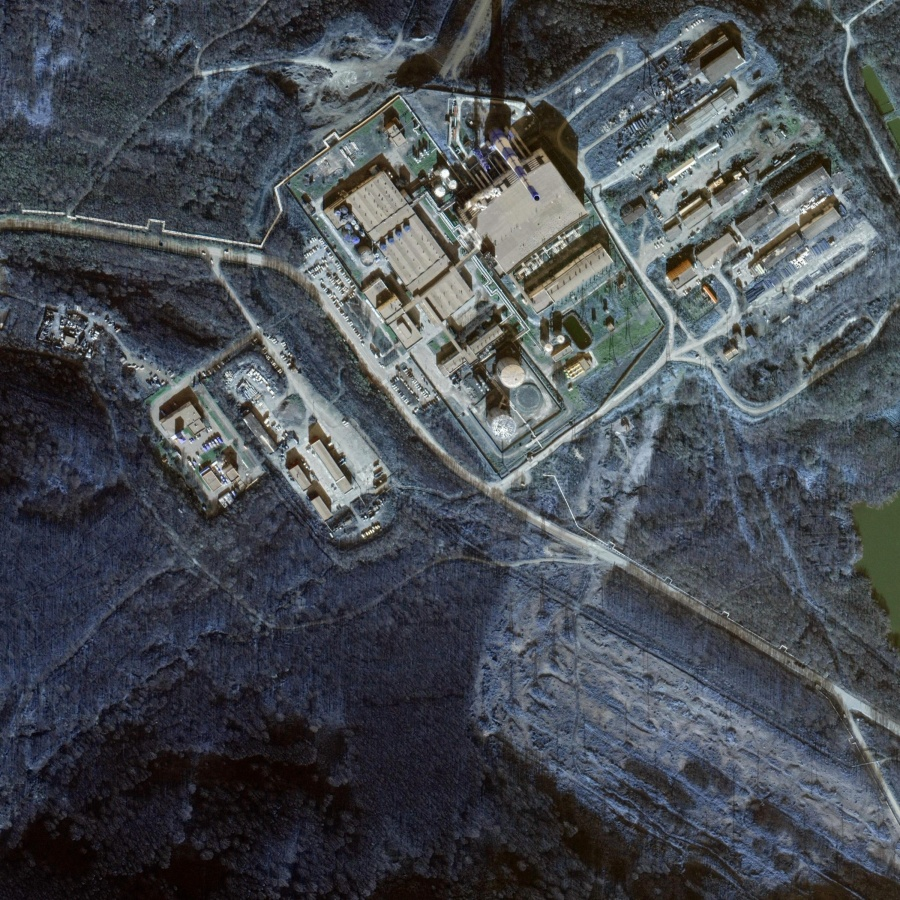PowerPlant: (321, 80, 636, 444)
